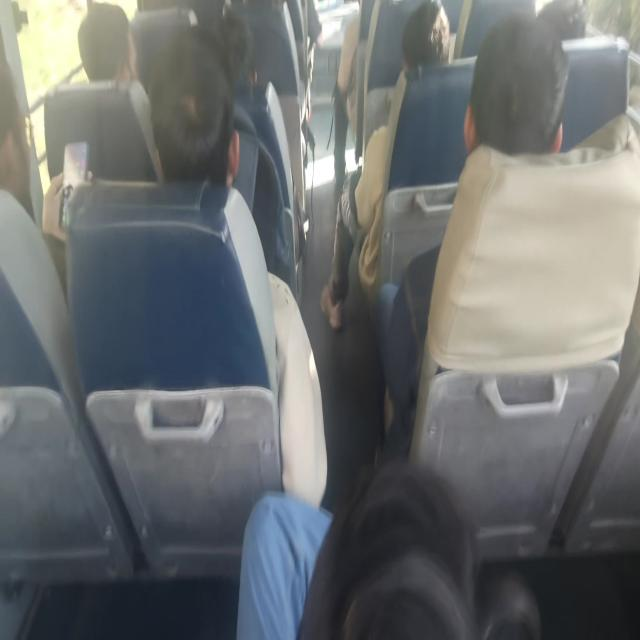person: (235, 3, 638, 636), (141, 24, 328, 507), (373, 11, 571, 463), (236, 457, 540, 638), (320, 0, 450, 329), (42, 2, 158, 241), (0, 56, 68, 299), (147, 25, 240, 186), (0, 56, 36, 225), (77, 2, 137, 83)
